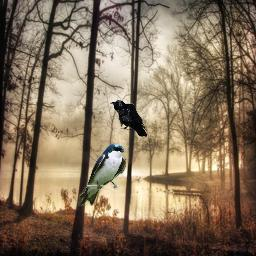Crow: (110, 100, 148, 137)
Swallow: (78, 143, 126, 206)
